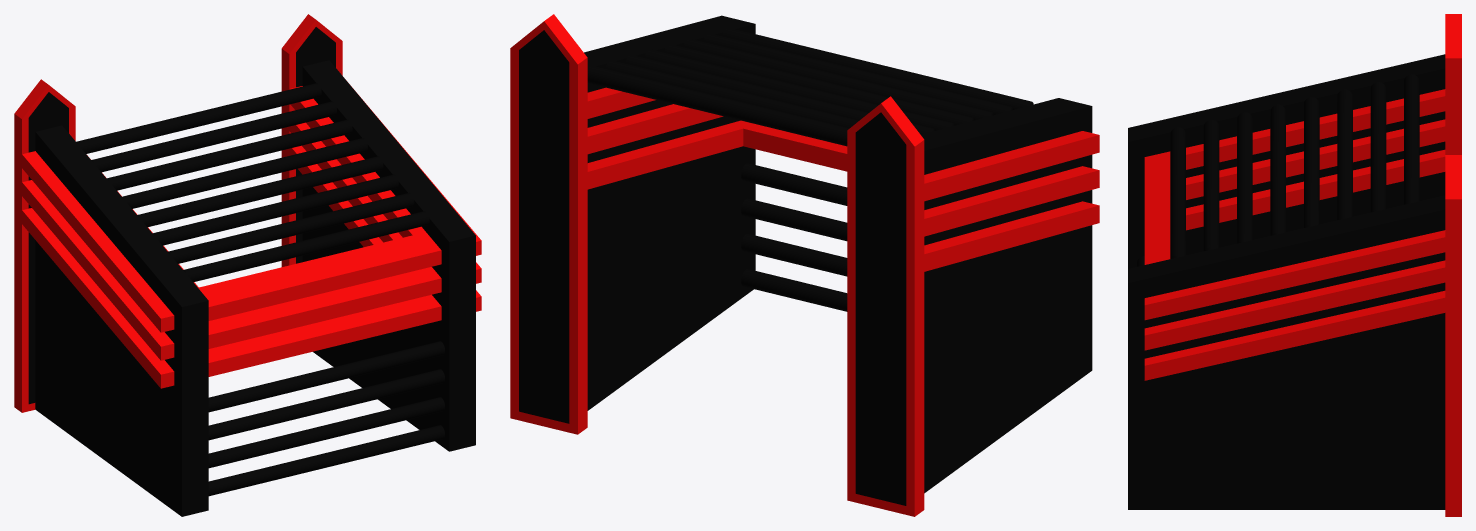
Rendered from Exit.glb.
3 views of the same model, side by side, from view 1: azimuth 30°, elevation 25°; view 2: azimuth 150°, elevation 25°; view 3: azimuth 270°, elevation 25° (orthographic). The views are drawn at different scales.
Parts seen in each view (by area): view 1: StraightWall.007, StraightWall, Cube.011, Cube.014, Cube.012, Cube.008, Cube.009, Cube.010, Cube.002, Cylinder.002, Cylinder.001, Cylinder (+17 smaller); view 2: StraightWall.007, StraightWall, Divider.001, Divider.008, Cube.026, Cube.002, Cylinder.007, Cube.009, Cube.010, Cube.008, Cube.007, Cylinder.002 (+19 smaller); view 3: StraightWall, StraightWall.007, Cube.006, Cube.056, Cube.007, Cube.027, Cube.008, Cube.009, Cube.010, Cube.011, Cylinder.001, Cylinder.006 (+9 smaller).
Boxes of the visible parts, <box> form: StraightWall.007: <box>35,125,208,516</box>; StraightWall: <box>302,60,475,451</box>; Cube.011: <box>199,235,428,319</box>; Cube.014: <box>208,298,428,375</box>; Cube.012: <box>208,270,428,347</box>; Cube.008: <box>22,151,214,332</box>; Cube.009: <box>22,180,214,360</box>; Cube.010: <box>22,208,214,388</box>; Cube.002: <box>14,114,28,405</box>; Cylinder.002: <box>183,211,429,282</box>; Cylinder.001: <box>168,192,414,263</box>; Cylinder: <box>153,174,398,245</box>; StraightWall.007: <box>921,98,1092,493</box>; StraightWall: <box>584,15,755,410</box>; Divider.001: <box>855,112,906,505</box>; Divider.008: <box>519,30,569,423</box>; Cube.026: <box>569,57,587,425</box>; Cube.002: <box>906,140,924,507</box>; Cylinder.007: <box>587,65,849,146</box>; Cube.009: <box>924,166,1099,236</box>; Cube.010: <box>924,201,1099,271</box>; Cube.008: <box>924,131,1099,201</box>; Cube.007: <box>587,120,756,189</box>; Cylinder.002: <box>722,27,1033,109</box>; StraightWall: <box>1128,195,1445,509</box>; StraightWall.007: <box>1128,54,1445,268</box>; Cube.006: <box>1144,260,1445,350</box>; Cube.056: <box>1144,230,1445,320</box>; Cube.007: <box>1144,290,1445,380</box>; Cube.027: <box>1445,199,1461,509</box>; Cube.008: <box>1144,89,1445,169</box>; Cube.009: <box>1186,119,1445,199</box>; Cube.010: <box>1186,149,1445,230</box>; Cube.011: <box>1144,158,1170,264</box>; Cylinder.001: <box>1203,120,1219,251</box>; Cylinder.006: <box>1370,82,1386,212</box>.
Size of the model in its own units: 4.8 by 4.6 by 4.
